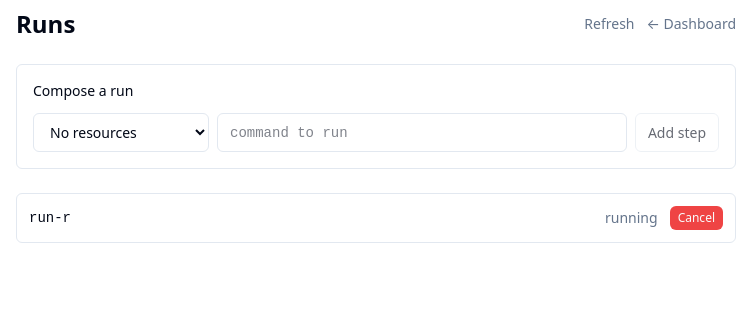
Test: Runs route › renders the ordinary per-step status list (no preview, no command) for a non-proposed Run
Click the button "run-r": (50, 218) [29, 208, 71, 228]
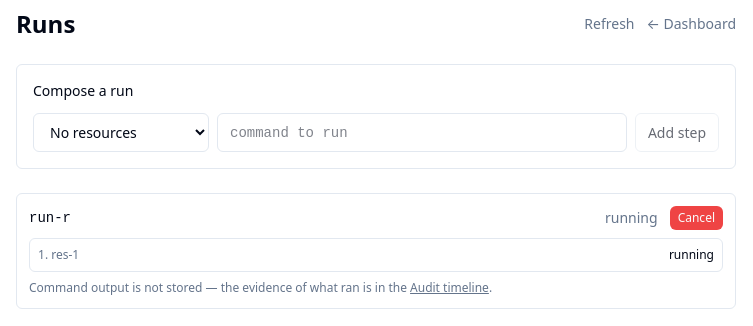
Check: the list named "run steps" is shown, box [29, 238, 723, 272]
